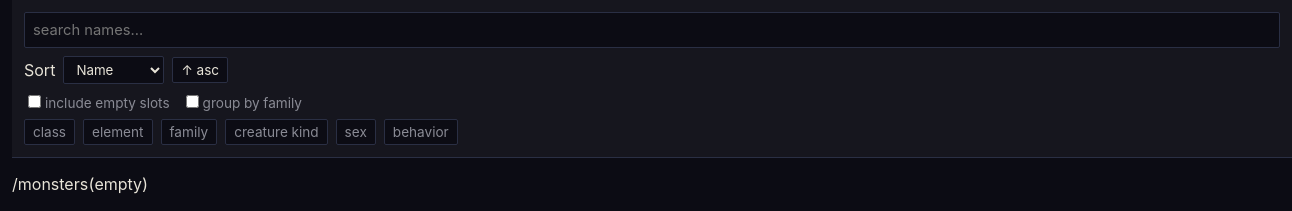
Test: MonsterFilters › toggling direction adds dir=desc to the URL
Click the button "↑ asc" at coordinates (200, 70), box [172,57,228,83]
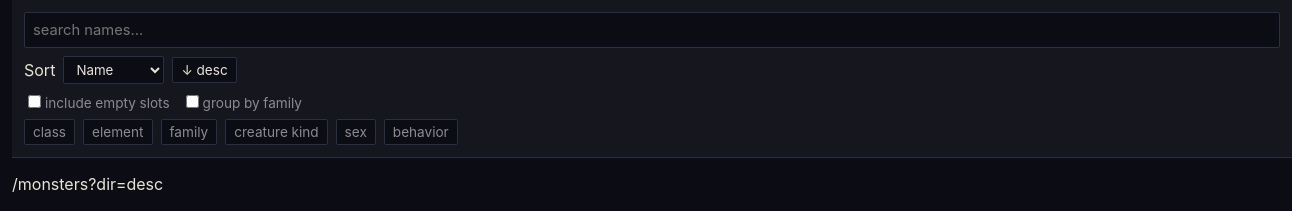
Result: the text with test id "location" shows "dir=desc" at [88,174,163,194]
